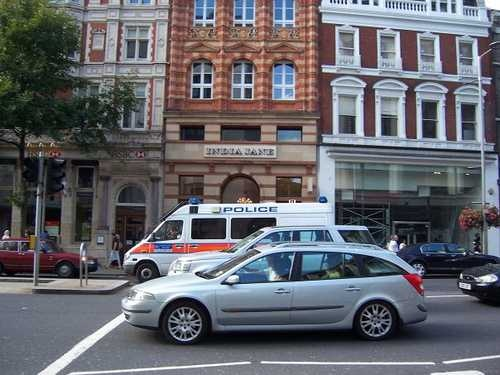Police Van: (121, 188, 337, 281)
